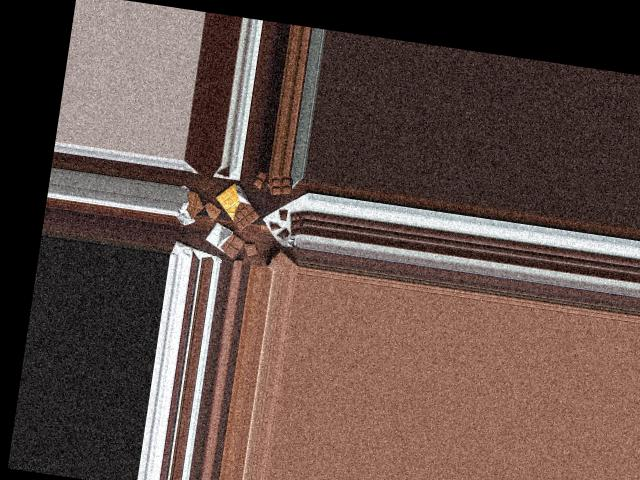chocolate: (205, 220, 247, 263)
